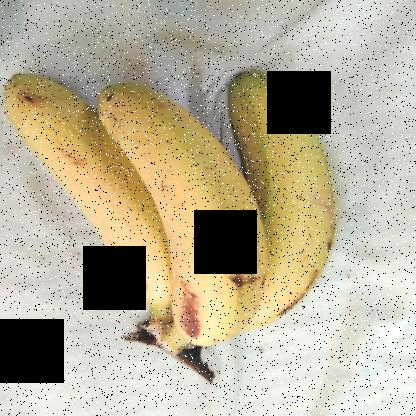ripe: (92, 86, 280, 352)
